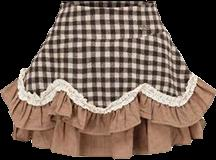Hemline: (0, 89, 215, 133), (10, 123, 207, 159)
Waistline: (20, 70, 194, 105), (61, 1, 155, 8)
